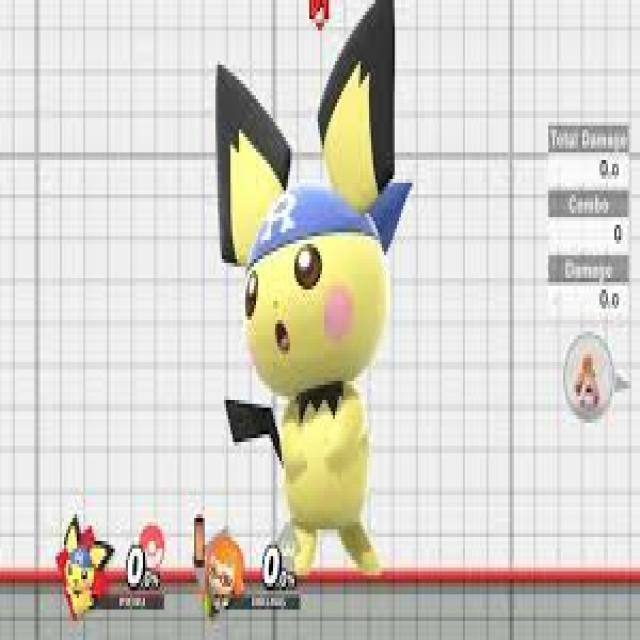pichu: (216, 26, 424, 594)
